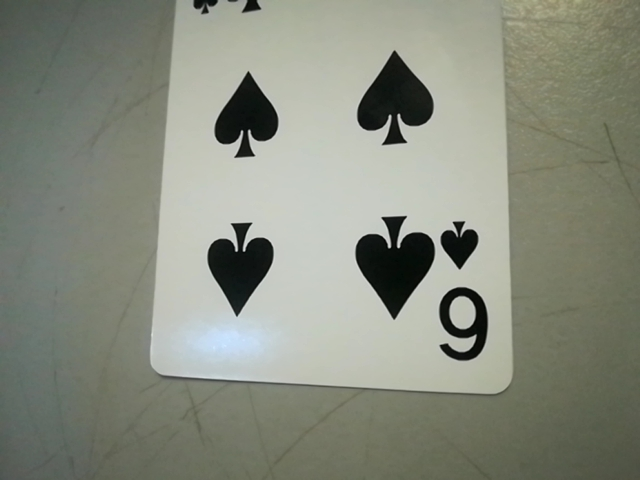ht 6: (429, 209, 501, 374)
